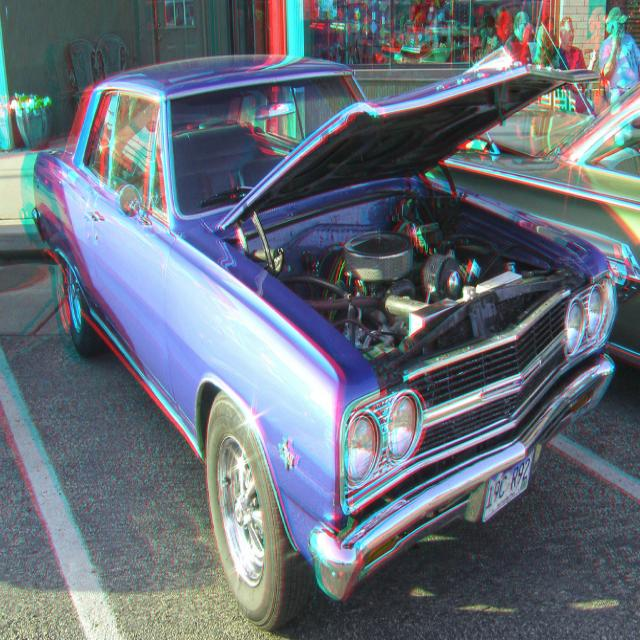other: (47, 42, 622, 616), (430, 86, 640, 370)
